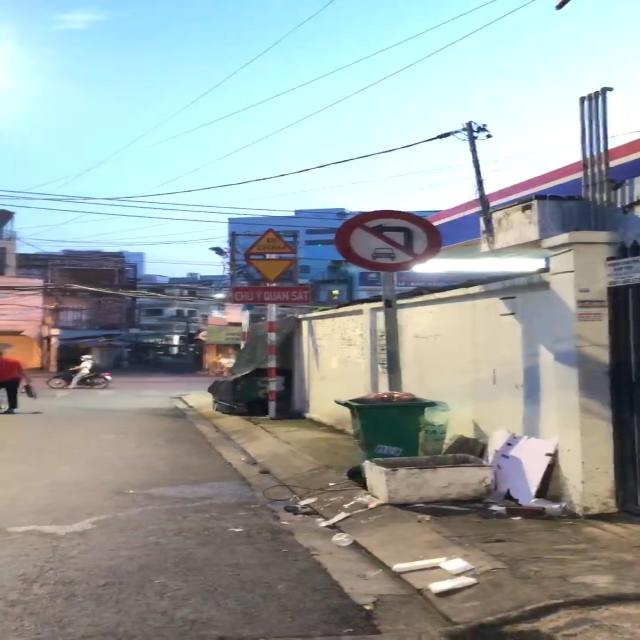Bien bao cam xe o to re trai: (336, 204, 443, 275)
Bien bao di cham: (241, 228, 298, 257)
Bien bao giao nhau voi duong uu tien: (243, 255, 306, 286)
